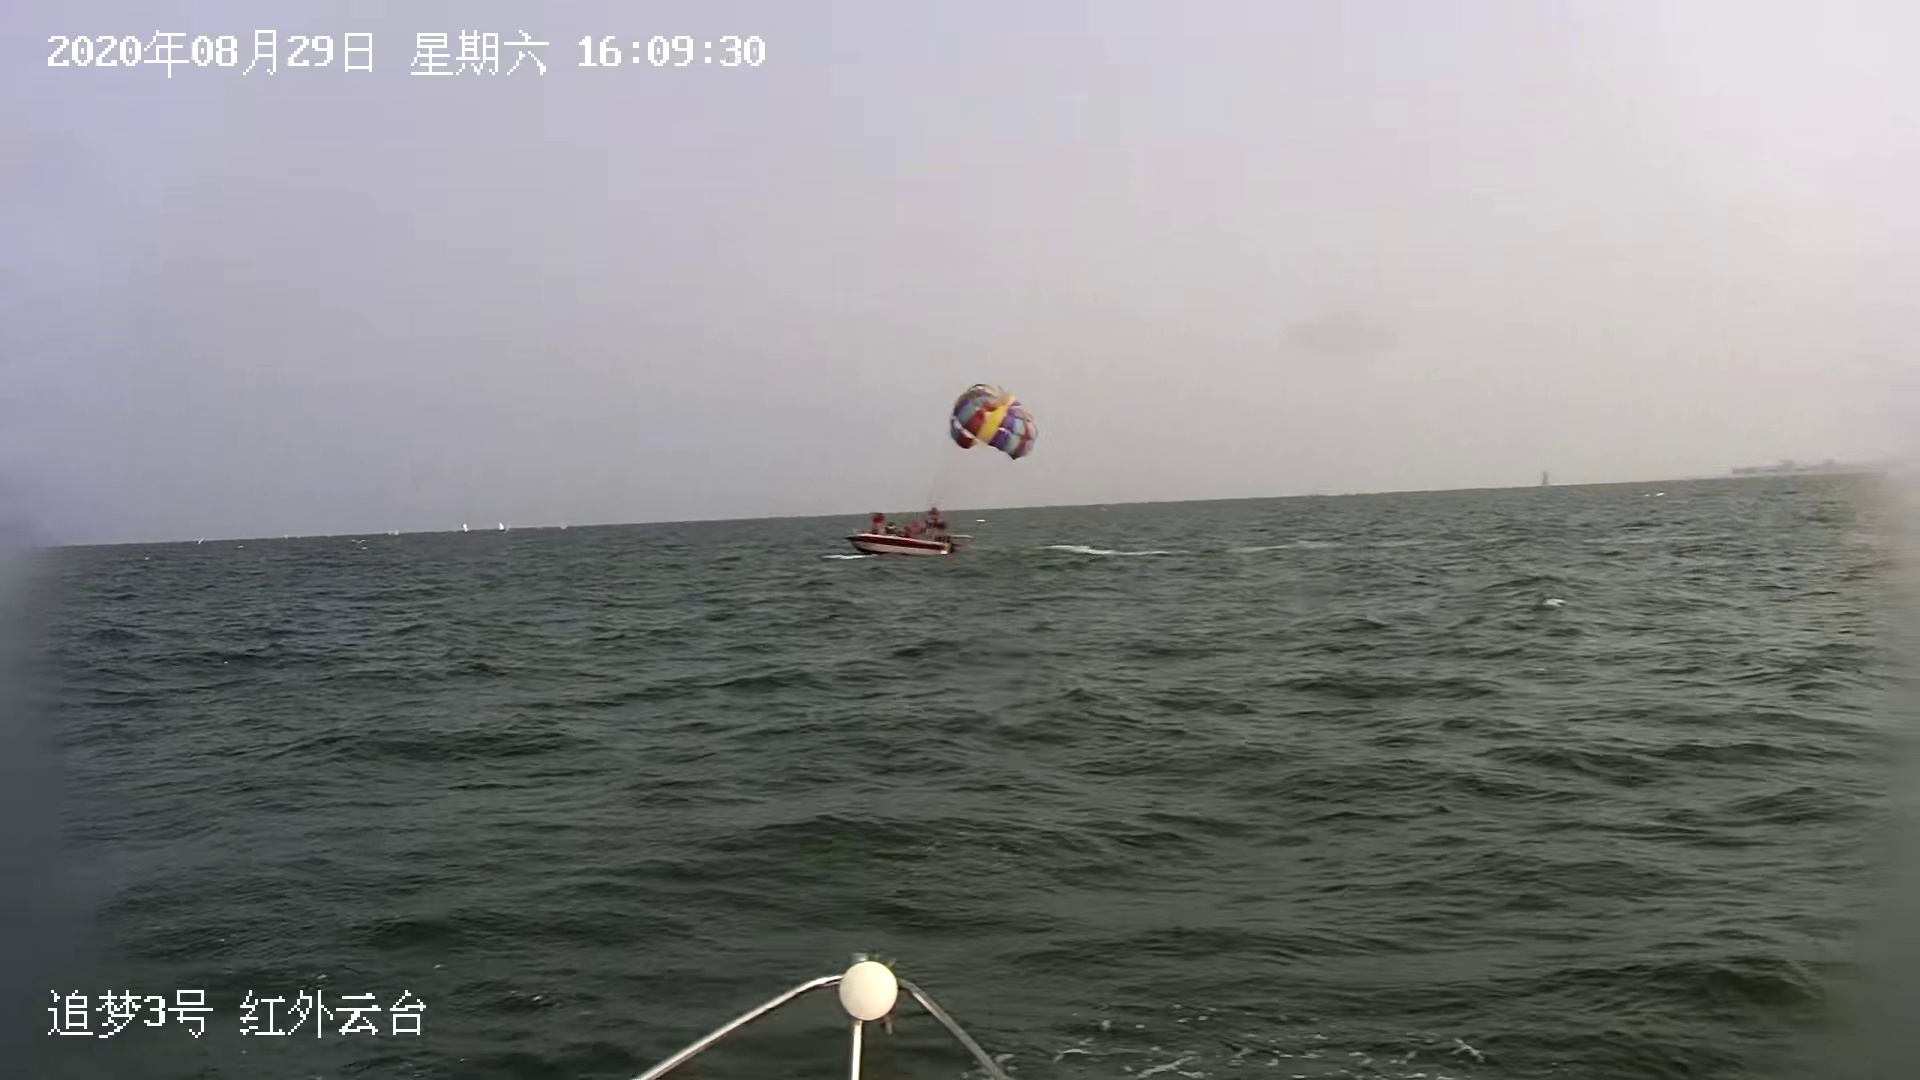barrier: (849, 505, 961, 564), (462, 522, 469, 533), (498, 521, 506, 531), (195, 537, 203, 545), (392, 527, 398, 535), (386, 529, 393, 535)
coast: (1731, 436, 1920, 483)
